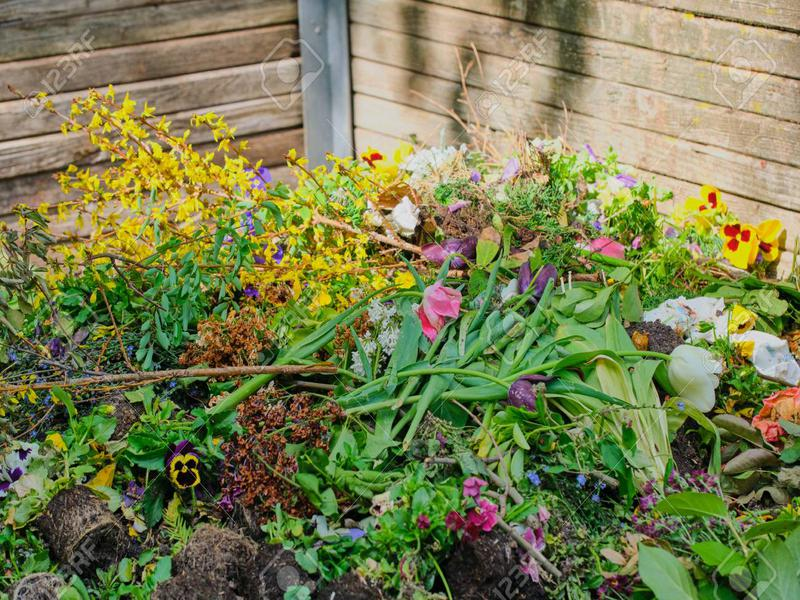flowers: (8, 76, 589, 325), (1, 318, 357, 553), (509, 288, 800, 453), (345, 465, 575, 599), (593, 162, 798, 281)
